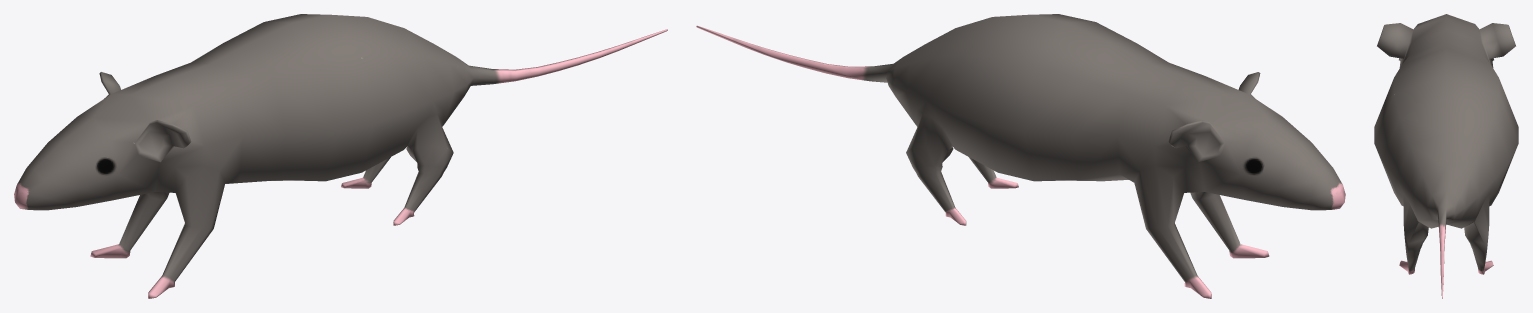
Rendered from FiravunFaresi.fbx.
3 renders of one model, left to right at view 1: azimuth 30°, elevation 25°; view 2: azimuth 150°, elevation 25°; view 3: azimuth 270°, elevation 25°, orthographic. The views are drawn at different scales.
Visible parts, largest first — view 1: Cube.002; view 2: Cube.002; view 3: Cube.002.
Part boxes in pixels (left/top/right/bottom): Cube.002: left=14, top=14, right=667, bottom=298; Cube.002: left=696, top=14, right=1345, bottom=298; Cube.002: left=1374, top=14, right=1518, bottom=298.
Bounding box in the file's own units: 3023 × 945 × 674.
Materials: 1 (1 with a texture image).
